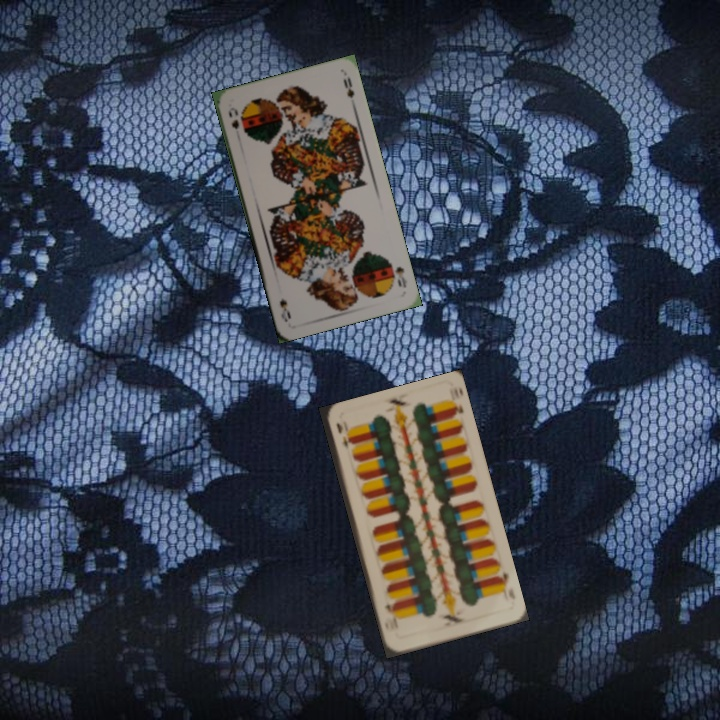E10: (332, 418, 351, 452), (492, 568, 511, 591)
SO: (386, 258, 410, 290), (224, 103, 242, 132)
